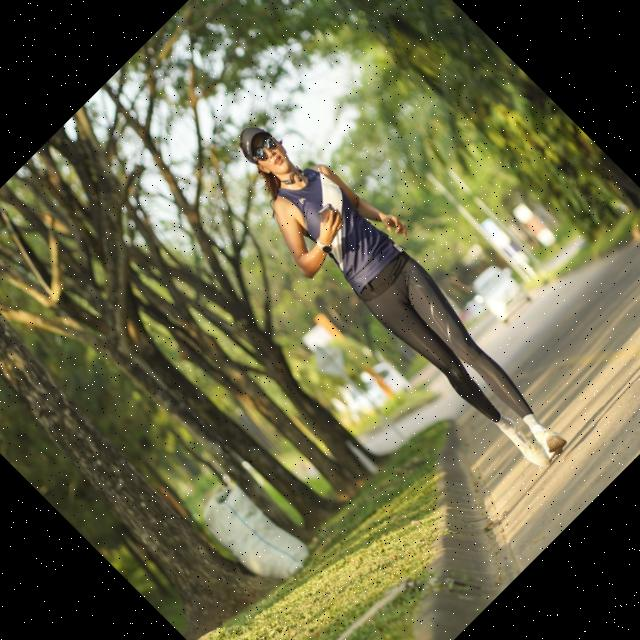Person: (200, 97, 598, 496)
